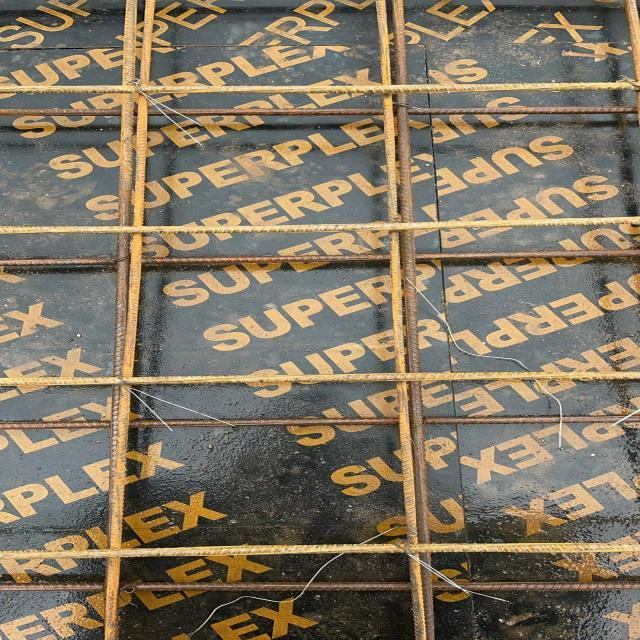ribbed bar: (375, 0, 439, 639), (104, 0, 155, 639), (102, 0, 135, 639), (0, 215, 639, 235), (0, 249, 639, 268), (0, 542, 639, 559), (0, 79, 639, 95), (0, 370, 639, 385), (0, 413, 639, 428), (0, 581, 639, 591), (0, 107, 639, 116)
